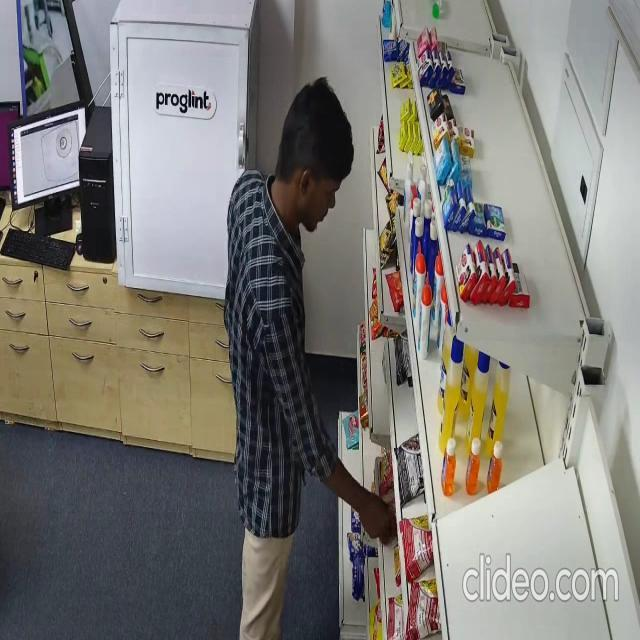normal: (224, 74, 394, 640)
